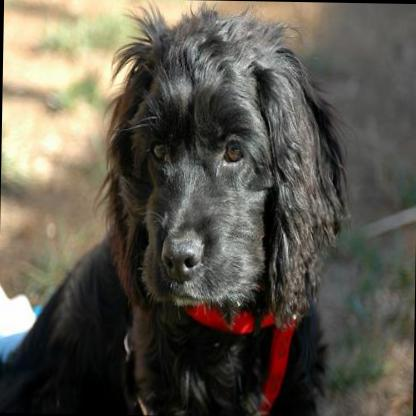cocker_spaniel: (0, 5, 339, 416)
